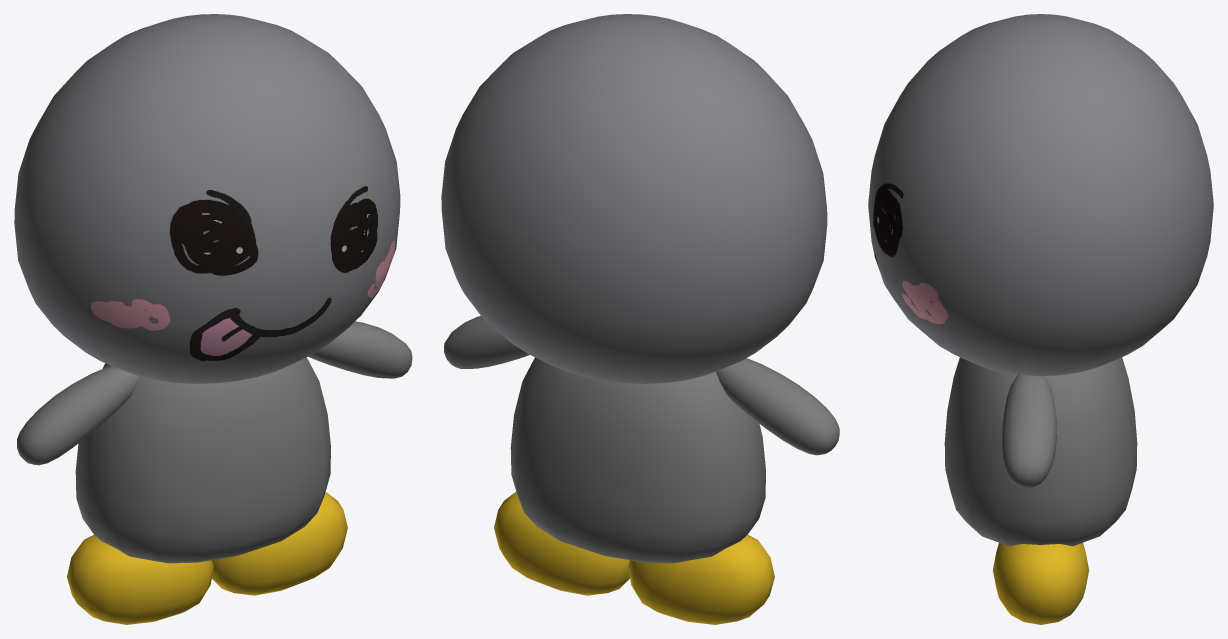
File: eunseok.glb
3 views of the same model, side by side, from view 1: azimuth 30°, elevation 25°; view 2: azimuth 150°, elevation 25°; view 3: azimuth 270°, elevation 25° (orthographic). The views are drawn at different scales.
Visible parts, largest first — view 1: eunseok; view 2: eunseok; view 3: eunseok.
Boxes of the visible parts, x1,y1,x2,y2 form: eunseok: [14, 14, 412, 624]; eunseok: [441, 14, 839, 624]; eunseok: [868, 14, 1213, 624].
Bounding box in the file's own units: 8.26 × 11.6 × 6.58.
3 materials, 1 textured.
